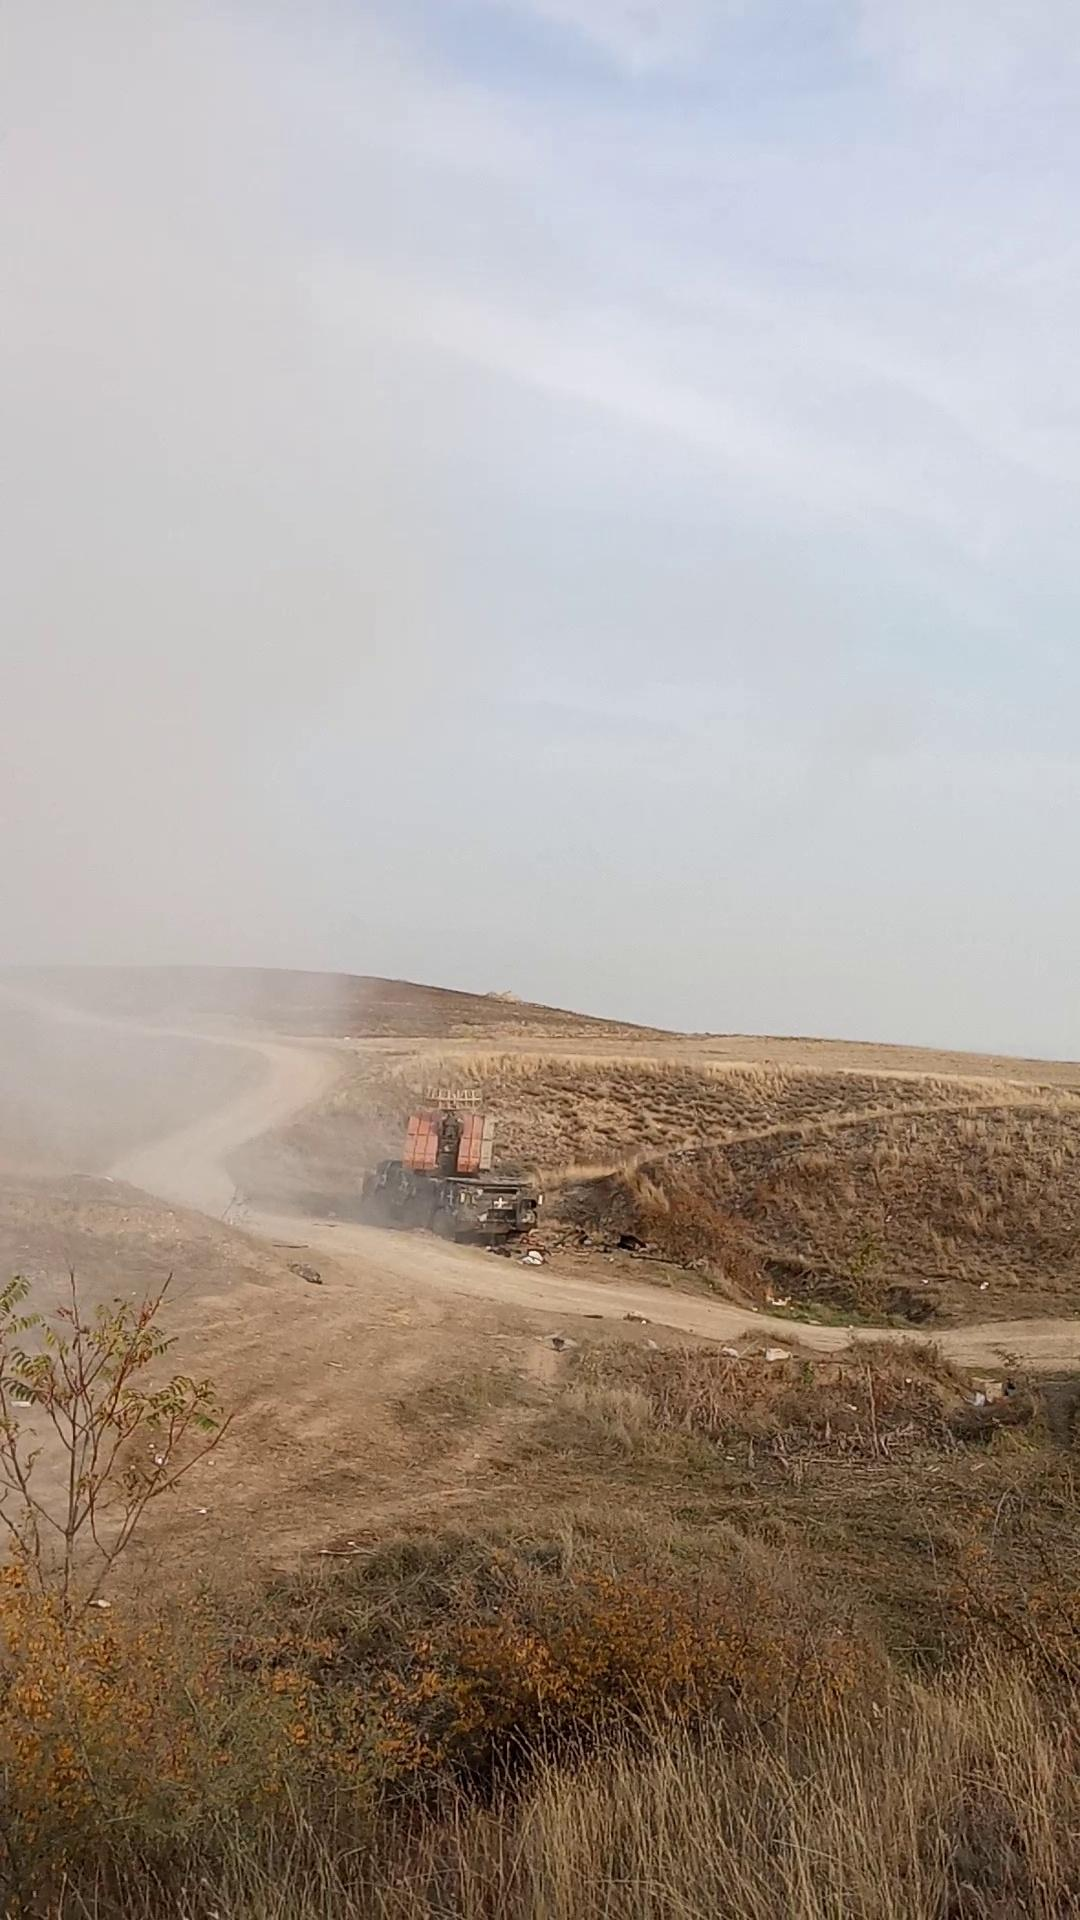MIL_SAM_TEL: (355, 1079, 547, 1258)
